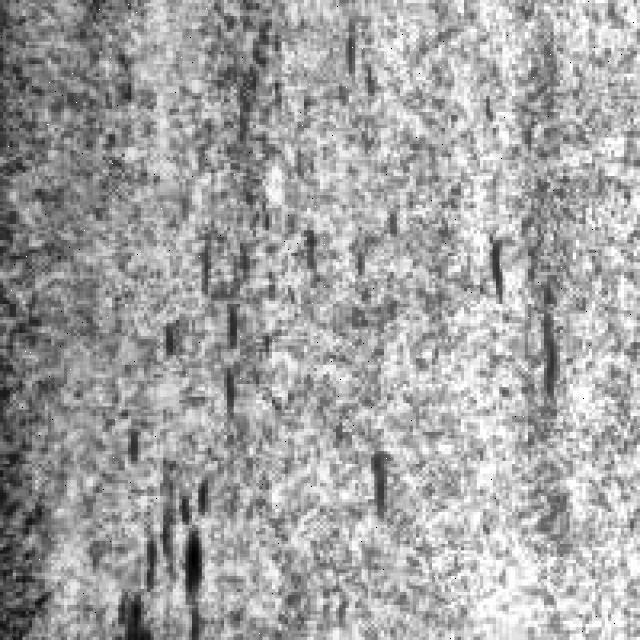Patches: (115, 464, 224, 634)
